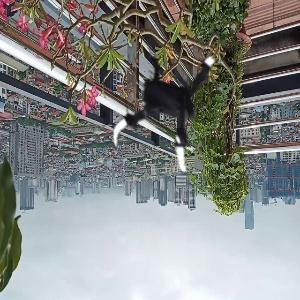drone: (98, 29, 248, 179)
